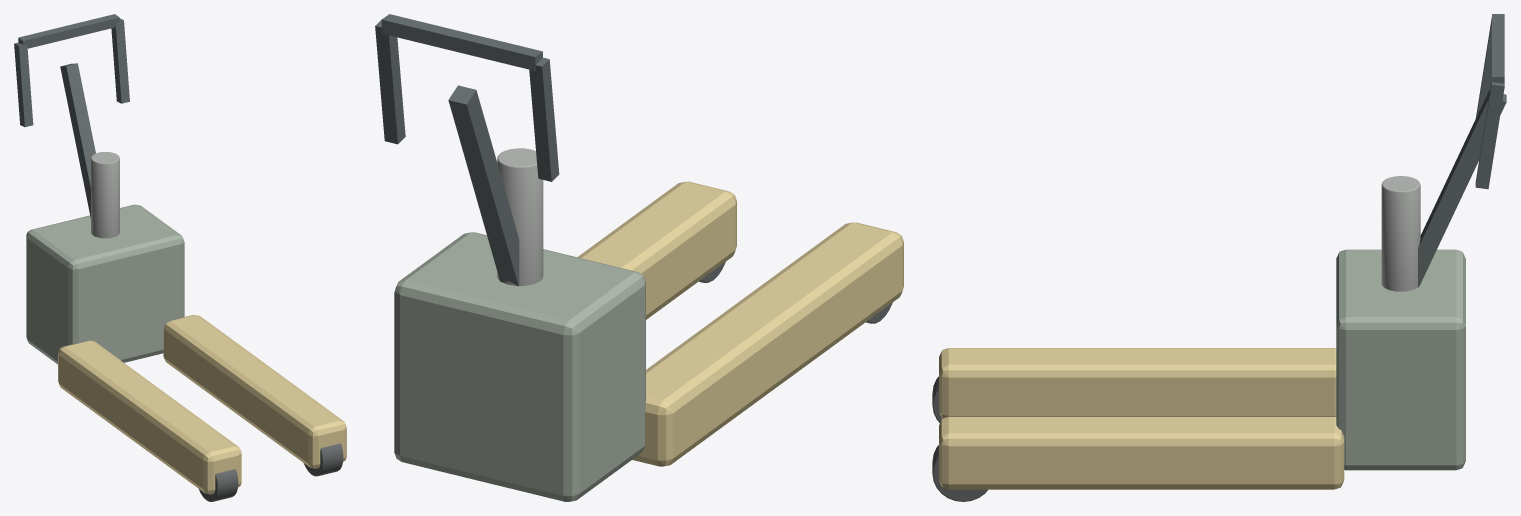
File: F1_PalletJack.fbx
3 renders of one model, left to right at view 1: azimuth 30°, elevation 25°; view 2: azimuth 150°, elevation 25°; view 3: azimuth 270°, elevation 25°, orthographic. The views are drawn at different scales.
Parts seen in each view (by area): view 1: F1_PalletJack_LOD0; view 2: F1_PalletJack_LOD0; view 3: F1_PalletJack_LOD0.
Boxes of the visible parts, left/top/right/bottom form: F1_PalletJack_LOD0: left=14, top=14, right=346, bottom=501; F1_PalletJack_LOD0: left=375, top=14, right=903, bottom=501; F1_PalletJack_LOD0: left=932, top=14, right=1506, bottom=501.
Size of what is drawn, in the model's own units: 68 by 142 by 177.
